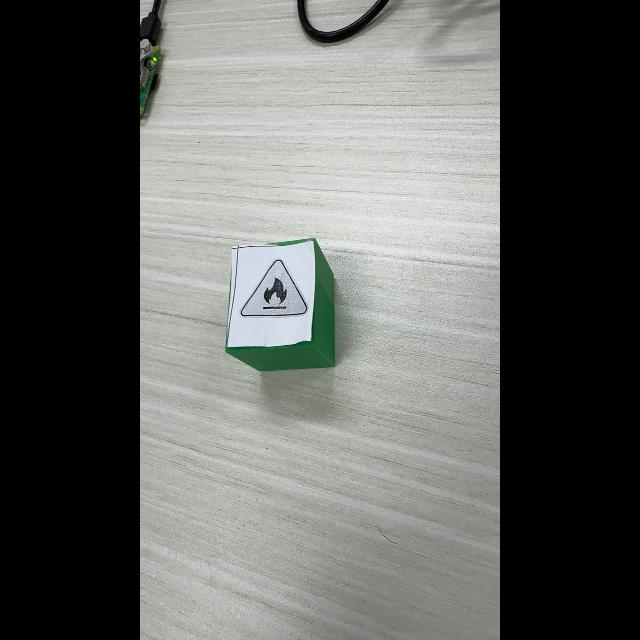Fire: (240, 259, 307, 317)
